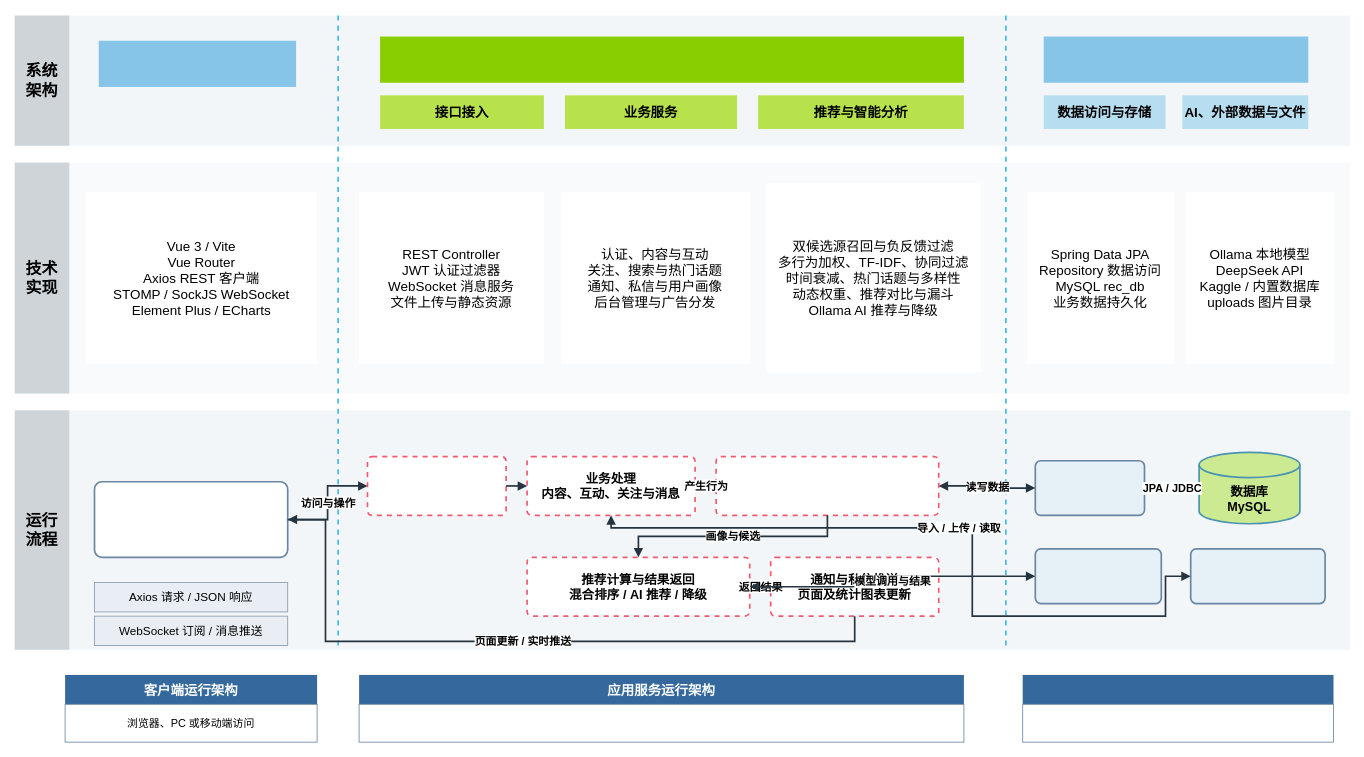
Some shapes in this 1364 by 757 pixel diagram are drawn without their labels. The shapes that lost their labels are listed below. From the top down, each one's centre as x and y in pixels, then its label:
the point at 197,63: 客户端
the point at 671,59: Spring Boot 应用服务层
the point at 1175,59: 数据与外部服务层
the point at 436,485: 用户认证 JWT 解析与角色识别
the point at 827,485: 行为记录与画像更新 VIEW / LIKE / COMMENT / SEARCH
the point at 1089,487: 数据访问 Repository
the point at 190,519: 浏览器访问 Vue 单页应用
the point at 1098,576: AI 服务 Ollama / DeepSeek
the point at 1257,576: 外部数据与文件 Kaggle / 内置数据 / uploads
the point at 1177,689: 数据与外部服务运行架构
the point at 661,723: Spring Boot 服务、推荐算法、WebSocket、文件上传、AI 调用与异常降级
the point at 1178,723: MySQL 数据库、Ollama、DeepSeek、Kaggle 与本地文件目录
